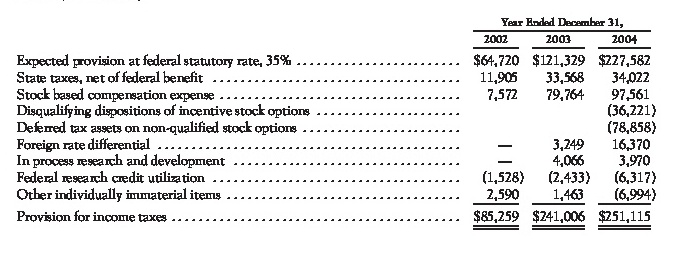table: (0, 0, 676, 253)
